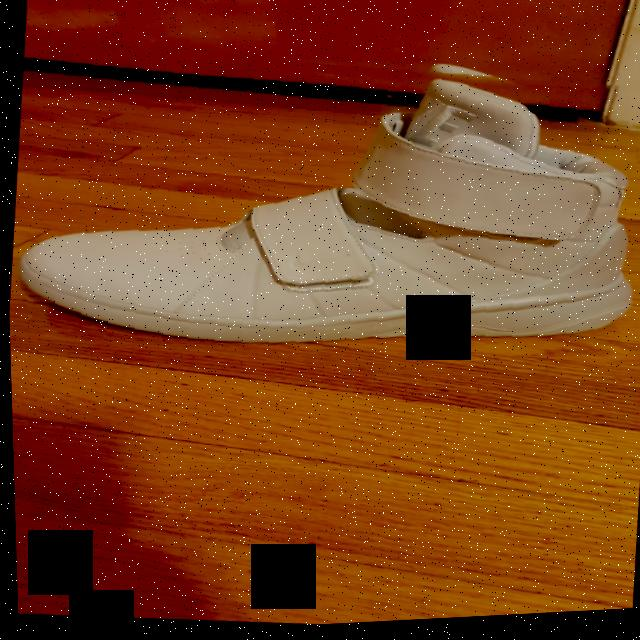shoe: (1, 17, 640, 392)
